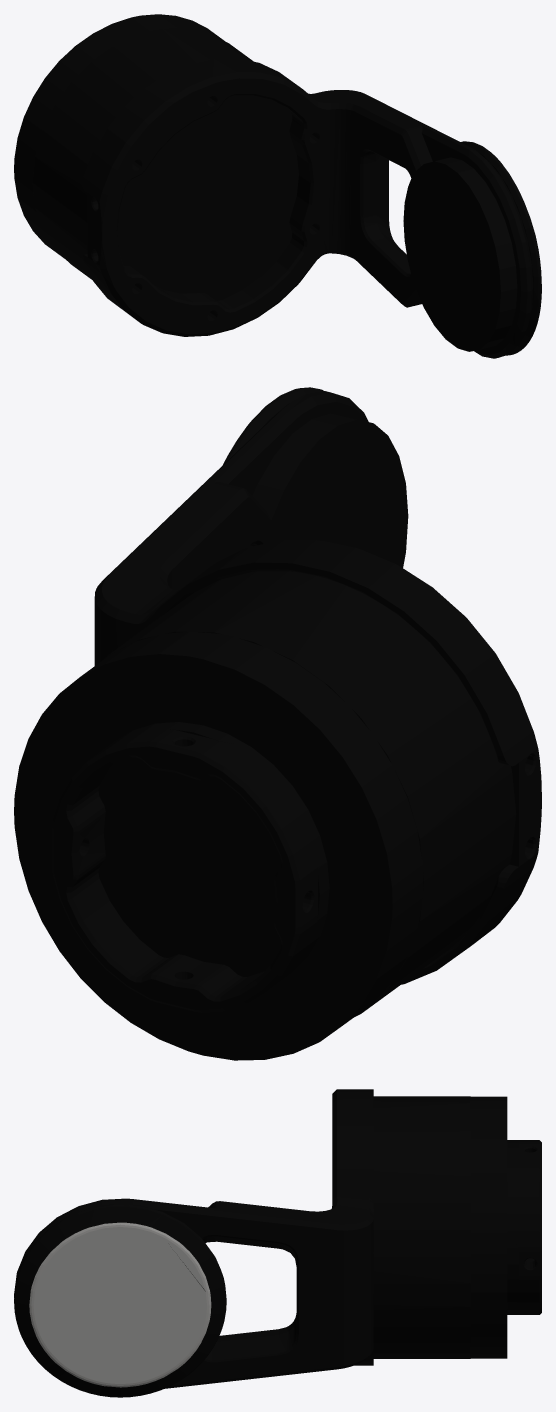
The model's file is right_arm_link7.obj.
The picture shows the model from 3 angles, top to bottom: view 1: azimuth 30°, elevation 25°; view 2: azimuth 150°, elevation 25°; view 3: azimuth 270°, elevation 25°; orthographic projection. The views are drawn at different scales.
Visible parts, largest first — view 1: right_arm_link7; view 2: right_arm_link7; view 3: right_arm_link7.
Part boxes in pixels (left/top/right/bottom): right_arm_link7: left=14, top=14, right=541, bottom=358; right_arm_link7: left=14, top=387, right=541, bottom=1060; right_arm_link7: left=14, top=1089, right=541, bottom=1397.
Bounding box in the file's own units: 0.069 × 0.0599 × 0.1146.
1 material, 1 textured.
